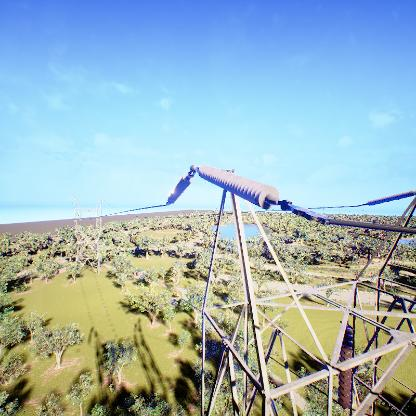insulator: (200, 165, 279, 208), (339, 326, 355, 409), (167, 172, 193, 204)
